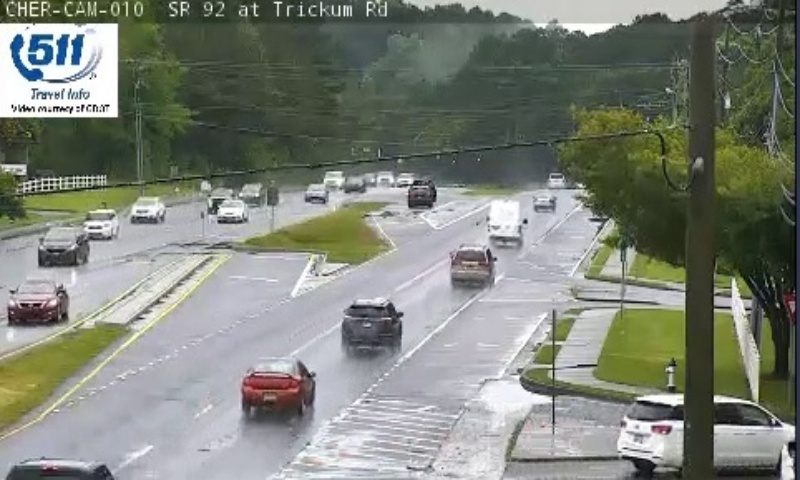car: (241, 358, 314, 410), (341, 301, 402, 346), (450, 245, 495, 285), (532, 191, 557, 211)
van: (487, 198, 520, 243)
